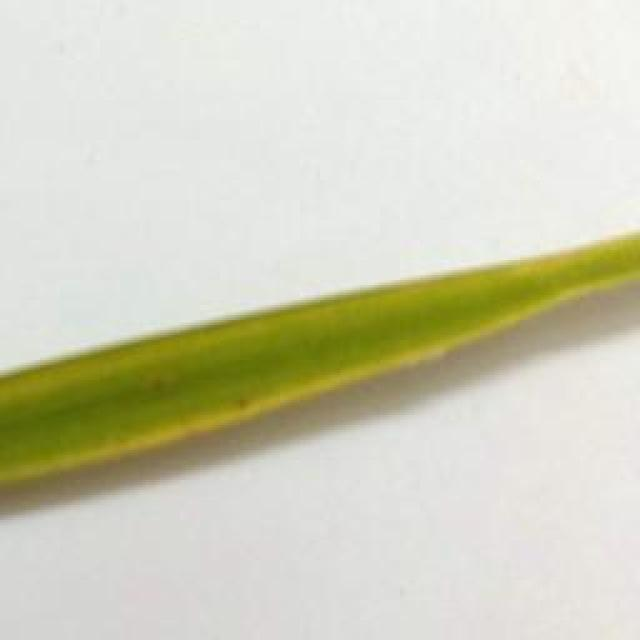Brown_Spot: (235, 387, 250, 403)
